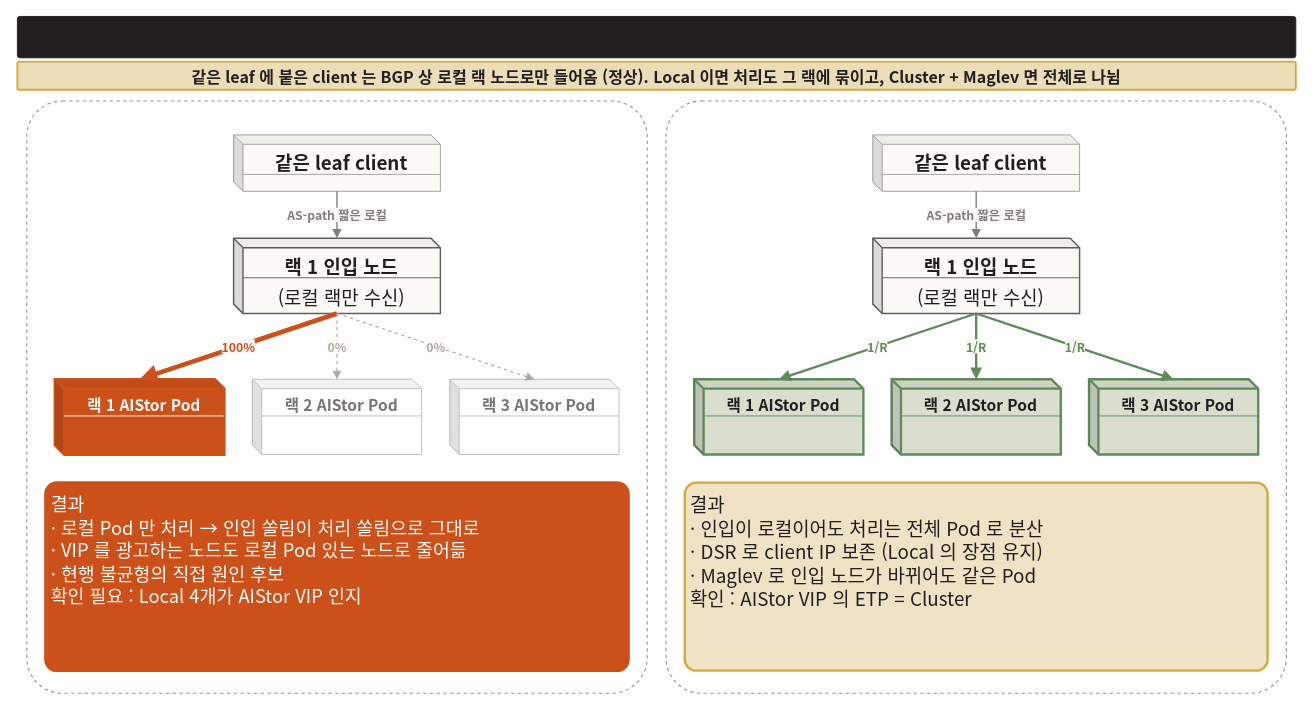
The diagram is 1312 pixels wide and 711 high, and some of its shapes have lost their labels. The box of each missing label's shape, as (x1, y1, x2, y2) in pixels:
I Lake : Local (LoadBalancer 4개): (26, 100, 647, 693)
Y1 : Cluster + Maglev: (665, 100, 1286, 693)
그림 4-3. externalTrafficPolicy : Local → Cluster: (16, 16, 1296, 58)
